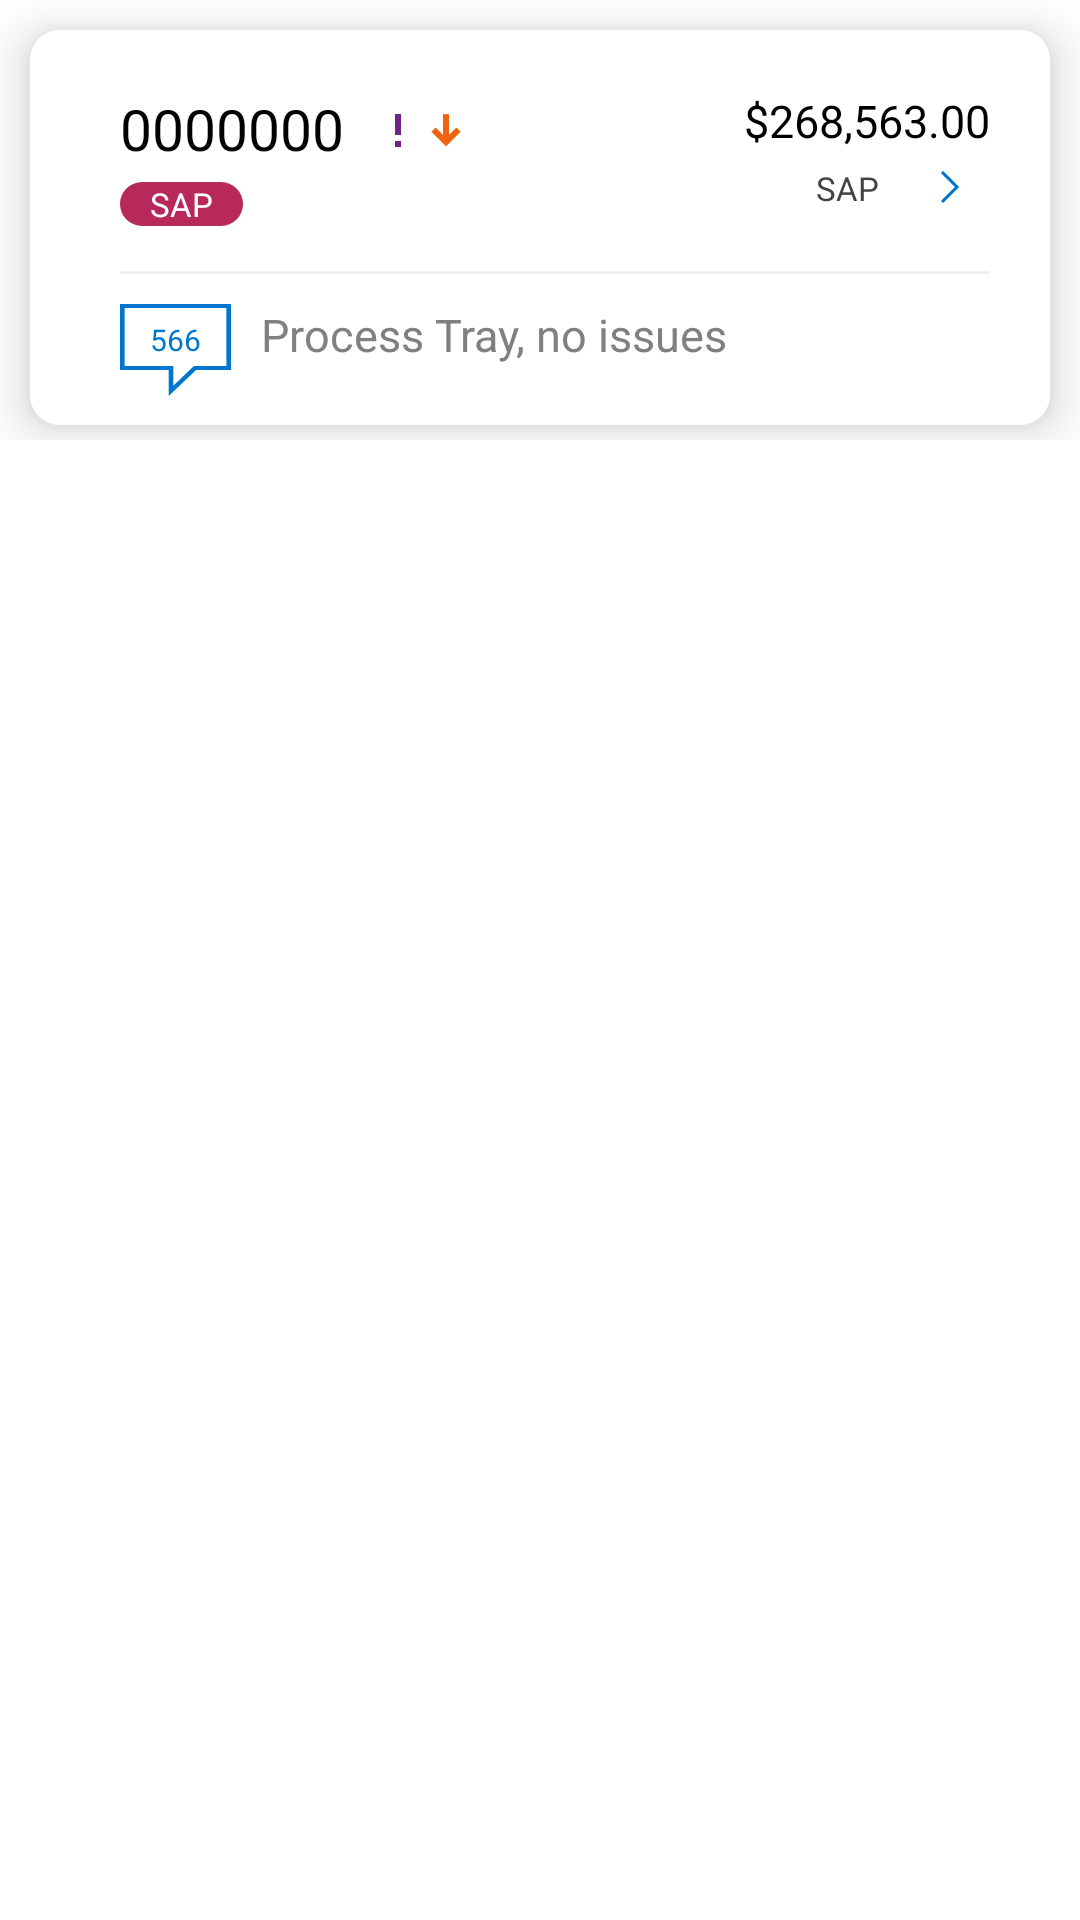

Icons on this 1080×1920 Android screen, each with its box as (x1, y1, x2, y2):
next: (941, 171, 959, 203)
